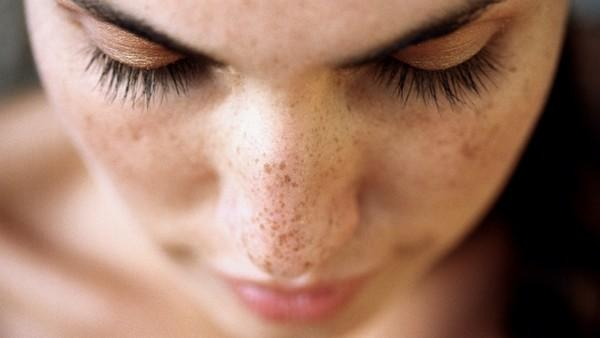Dark-Spots: (236, 76, 345, 281), (348, 87, 519, 187), (71, 96, 234, 188)
